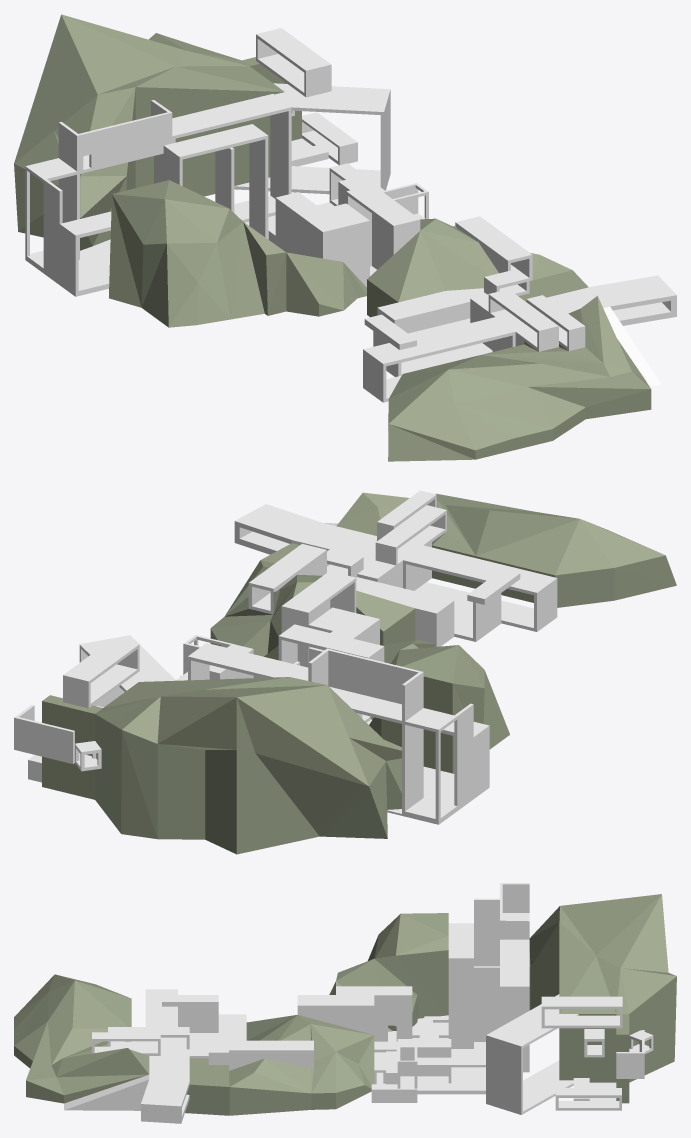
The picture shows the model from 3 angles, top to bottom: view 1: azimuth 30°, elevation 25°; view 2: azimuth 150°, elevation 25°; view 3: azimuth 270°, elevation 25°; orthographic projection. The views are drawn at different scales.
Visible parts, largest first — view 1: Group2, Group1, Group3; view 2: Group3, Group1, Group2; view 3: Group1, Group3, Group2.
Part boxes in pixels (box(x1,y1,x2,y2)): Group2: box(25, 94, 428, 327); Group1: box(363, 216, 676, 461); Group3: box(14, 14, 390, 250); Group3: box(14, 635, 401, 854); Group1: box(210, 490, 676, 660); Group2: box(176, 571, 509, 824); Group1: box(14, 974, 374, 1123); Group3: box(486, 894, 676, 1114); Group2: box(297, 883, 529, 1102).
Bounding box in the file's own units: 22.92 × 8.25 × 39.01.
